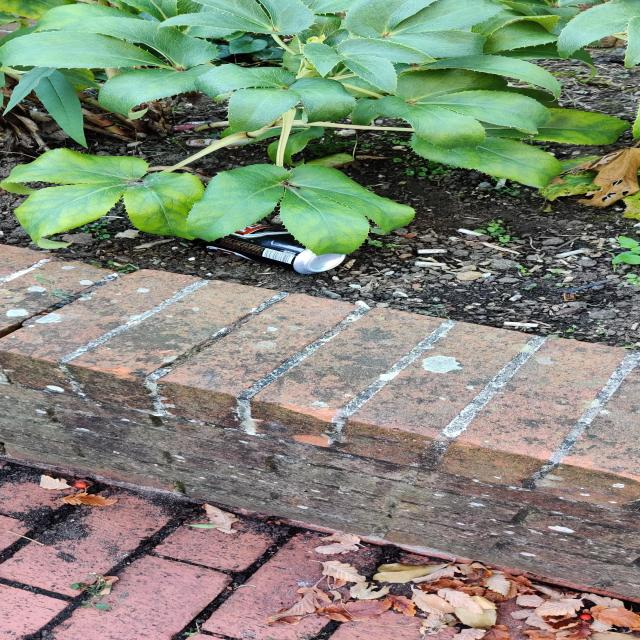litter: (194, 199, 393, 286)
